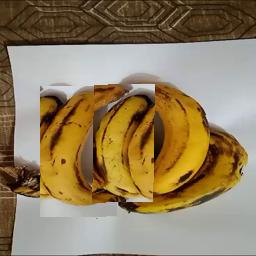Banana Semifresh: (40, 82, 246, 218), (123, 77, 218, 197), (40, 86, 119, 217), (94, 85, 155, 203)
